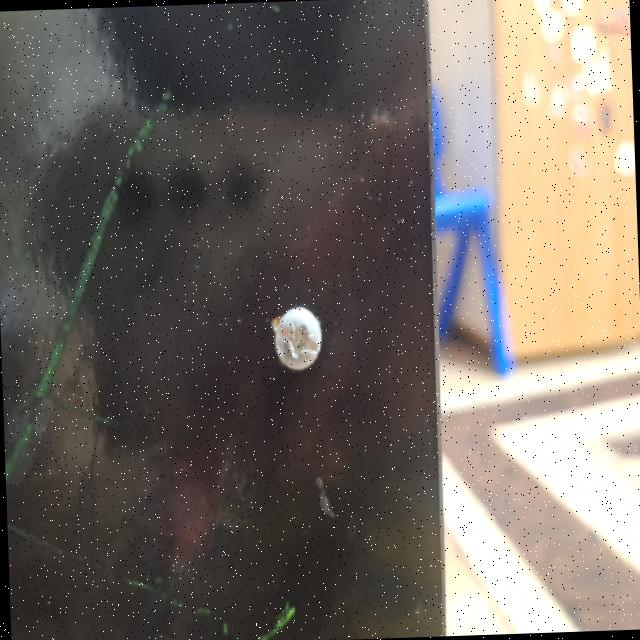Pozidriv: (272, 308, 326, 377)
